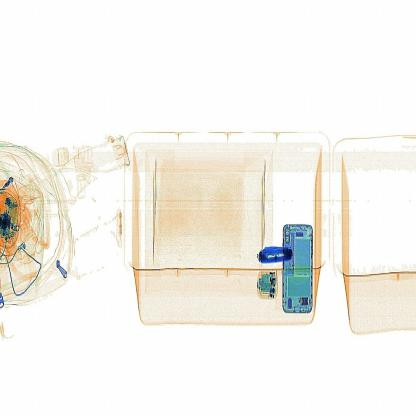scissors: (251, 238, 297, 268)
